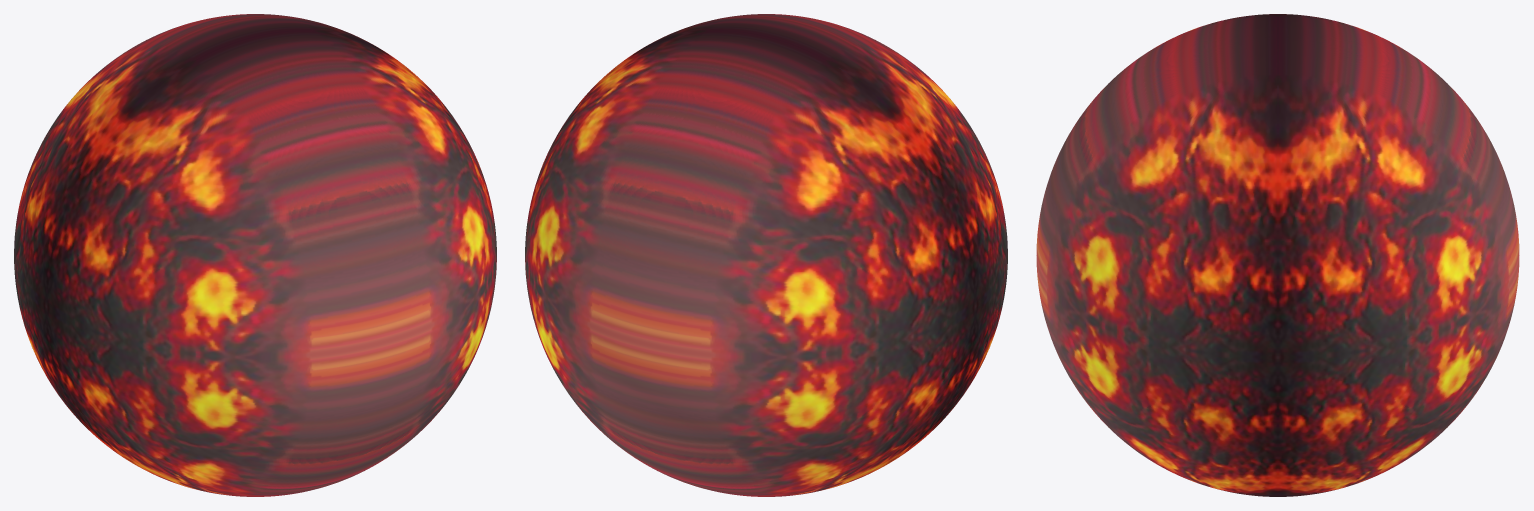
Rendered from 55_Cancri_e.glb.
3 views of the same model, side by side, from view 1: azimuth 30°, elevation 25°; view 2: azimuth 150°, elevation 25°; view 3: azimuth 270°, elevation 25° (orthographic).
Visible parts, largest first — view 1: 55_Cancri_e; view 2: 55_Cancri_e; view 3: 55_Cancri_e.
Boxes of the visible parts, x1=… form: 55_Cancri_e: x1=14, y1=14, x2=496, y2=496; 55_Cancri_e: x1=525, y1=14, x2=1007, y2=496; 55_Cancri_e: x1=1036, y1=14, x2=1519, y2=496.
Size of the model in its own units: 2 by 2 by 2.
1 material, 1 textured.
